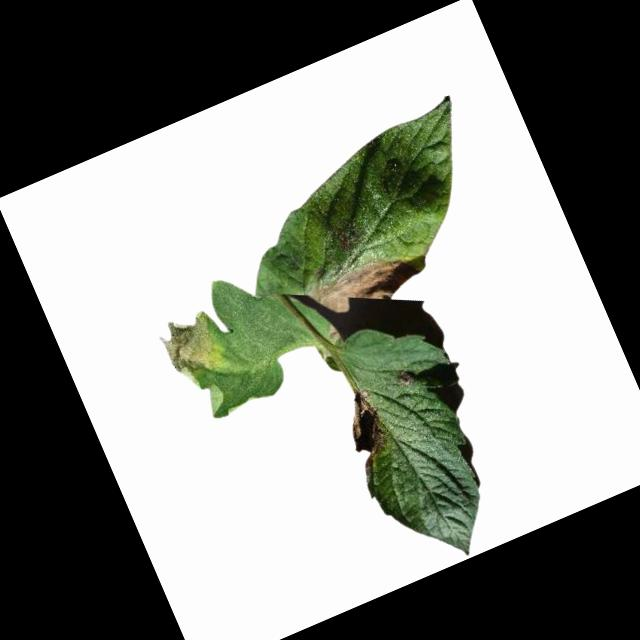Late_blight: (306, 244, 426, 327), (333, 384, 402, 478), (154, 305, 230, 386), (393, 363, 419, 389), (326, 324, 341, 341)
